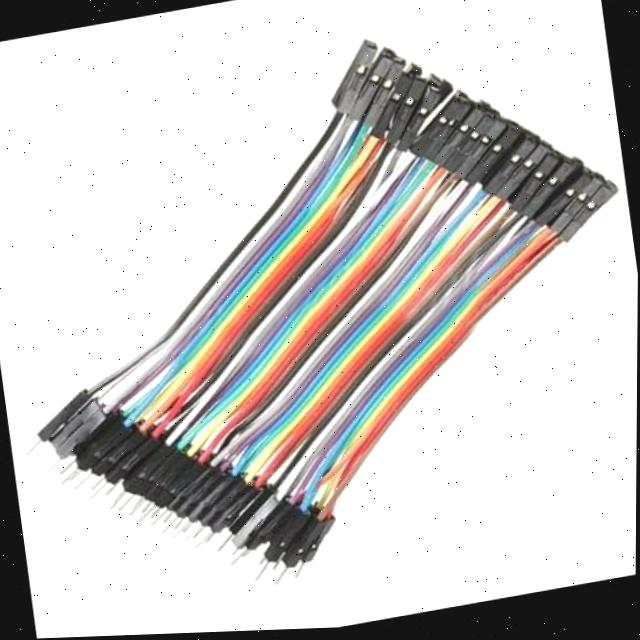Jumper Wires: (10, 9, 630, 609)
